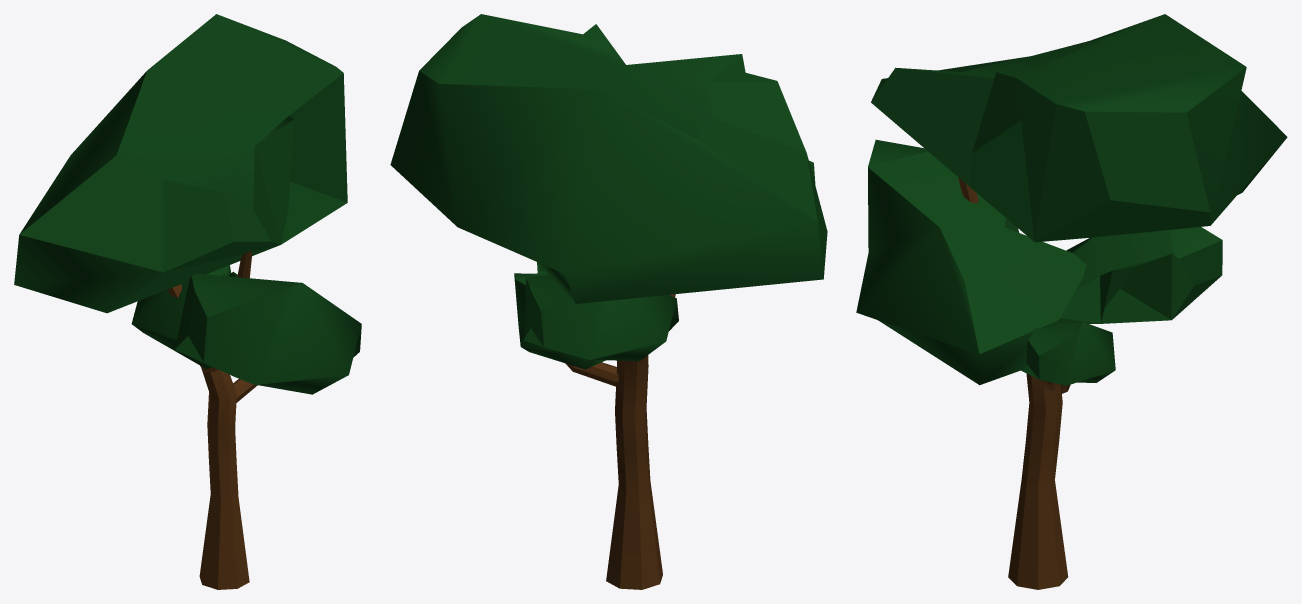
Rendered from Tree1.fbx.
The picture shows the model from 3 angles, left to right: view 1: azimuth 30°, elevation 25°; view 2: azimuth 150°, elevation 25°; view 3: azimuth 270°, elevation 25°; orthographic projection. The views are drawn at different scales.
Visible parts, largest first — view 1: Tree1; view 2: Tree1; view 3: Tree1.
Part boxes in pixels (box(x1,y1,x2,y2)): Tree1: box(14, 14, 361, 589); Tree1: box(390, 14, 827, 589); Tree1: box(856, 14, 1287, 589).
Bounding box in the file's own units: 3.74 × 5.11 × 3.59.
